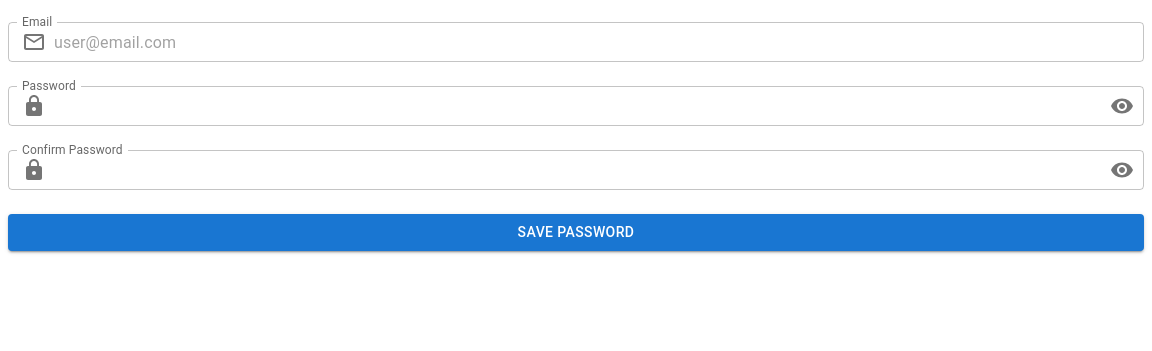
Reset Password Form › should display error message Email must be valid
The image size is (1152, 351).
Type "emailbusiness.com" into the field labelled "Email" at (599, 42), box [54,22,1144,62]
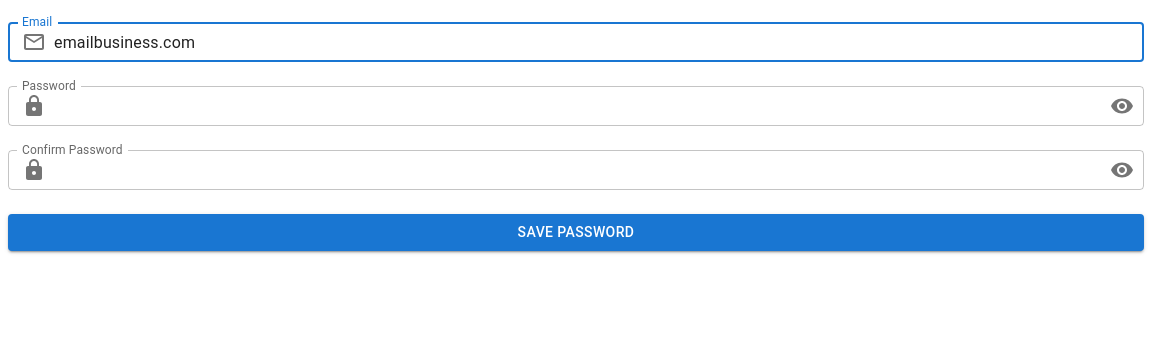
Type "Clave123" into the password field labelled "Password" at (578, 106), box [54,86,1102,126]
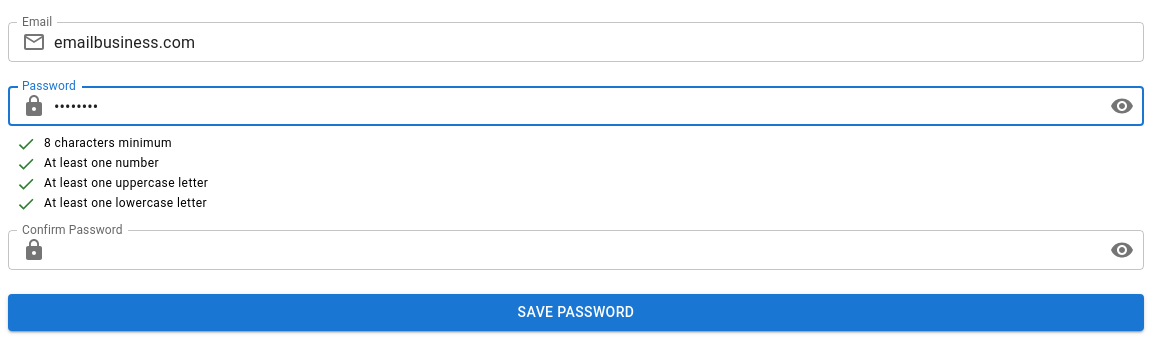
Type "Clave123" into the password field labelled "Confirm Password" at (578, 250), box [54,230,1102,270]
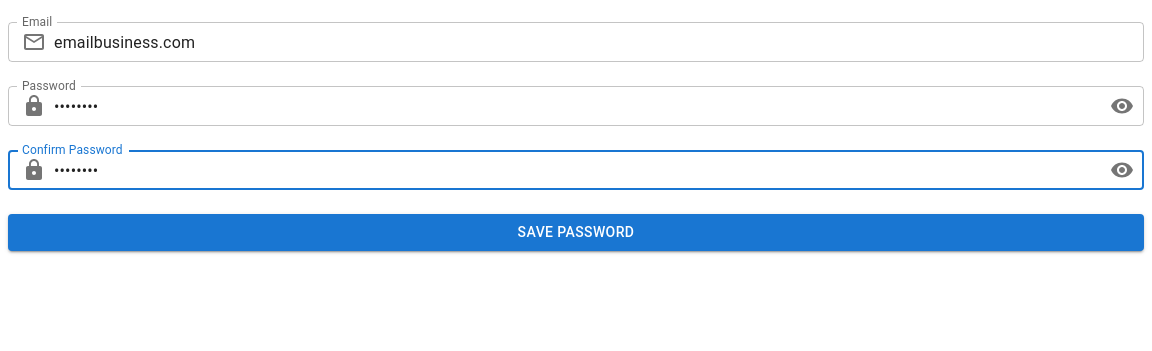
Click the button "Save password" at (576, 232), box [8,214,1144,250]
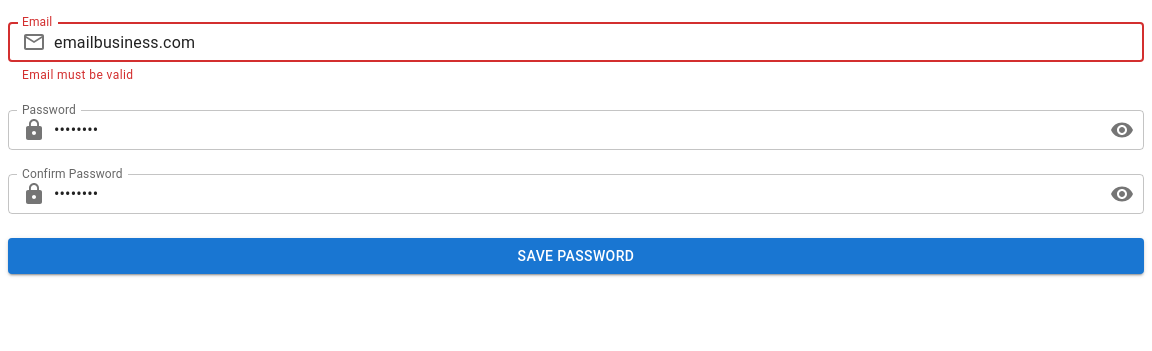
Now the text "Email must be valid" is shown, box [22,68,134,82]
